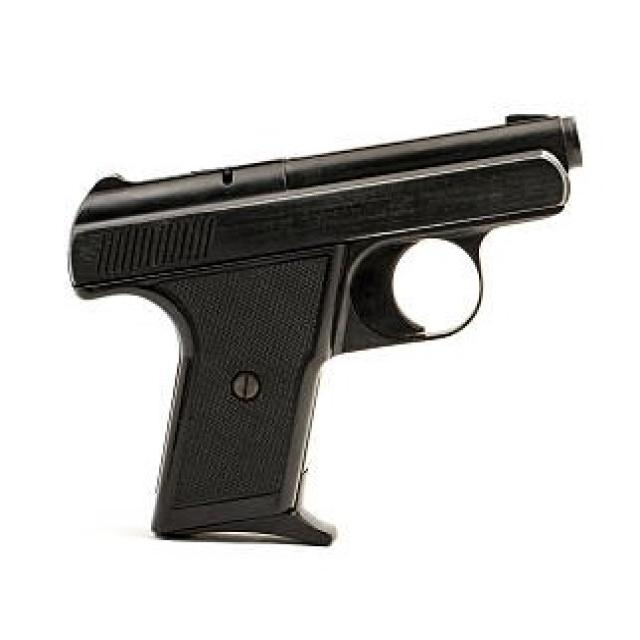pistol: (67, 110, 588, 556)
